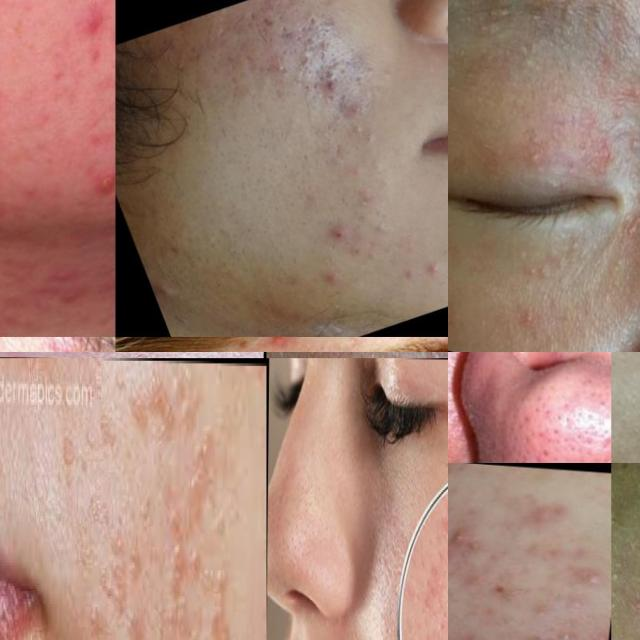acne_scars: (308, 32, 344, 68), (236, 44, 267, 82), (257, 11, 281, 36)
comedone: (356, 126, 386, 154), (345, 240, 373, 266), (534, 595, 561, 620), (518, 626, 549, 640)
flat_wart: (56, 364, 219, 504), (138, 523, 234, 640), (85, 509, 156, 640), (611, 488, 625, 552)
papule: (72, 0, 115, 59), (414, 249, 448, 293), (320, 263, 348, 297), (319, 218, 351, 246), (265, 337, 301, 352), (448, 541, 466, 568), (0, 298, 12, 336)
sebo-crystan-conglo: (309, 64, 352, 102)
